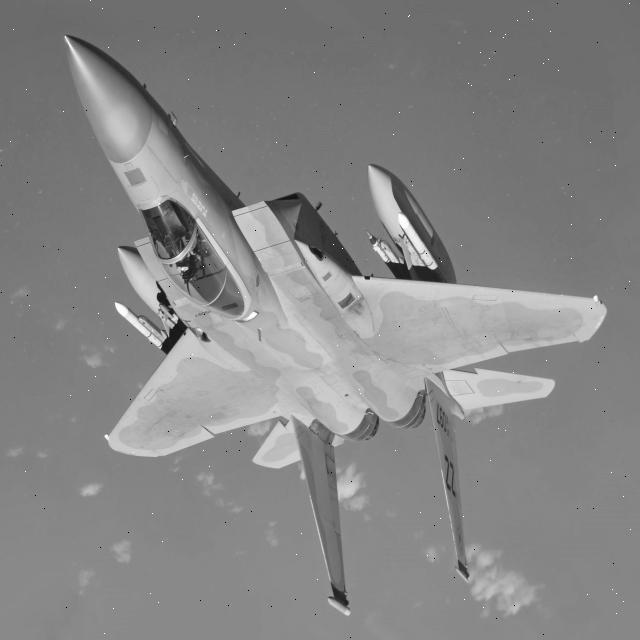F15: (0, 1, 631, 624)
